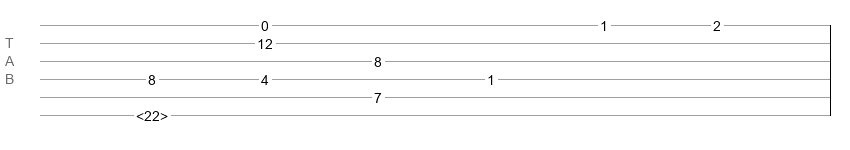0: (261, 18, 269, 28)
1: (487, 72, 495, 82), (600, 18, 608, 28)
12: (257, 36, 273, 46)
2: (713, 18, 721, 28)
4: (261, 72, 269, 82)
7: (374, 90, 382, 100)
8: (148, 72, 156, 82), (374, 54, 382, 64)
harmonic: (136, 108, 168, 118)
